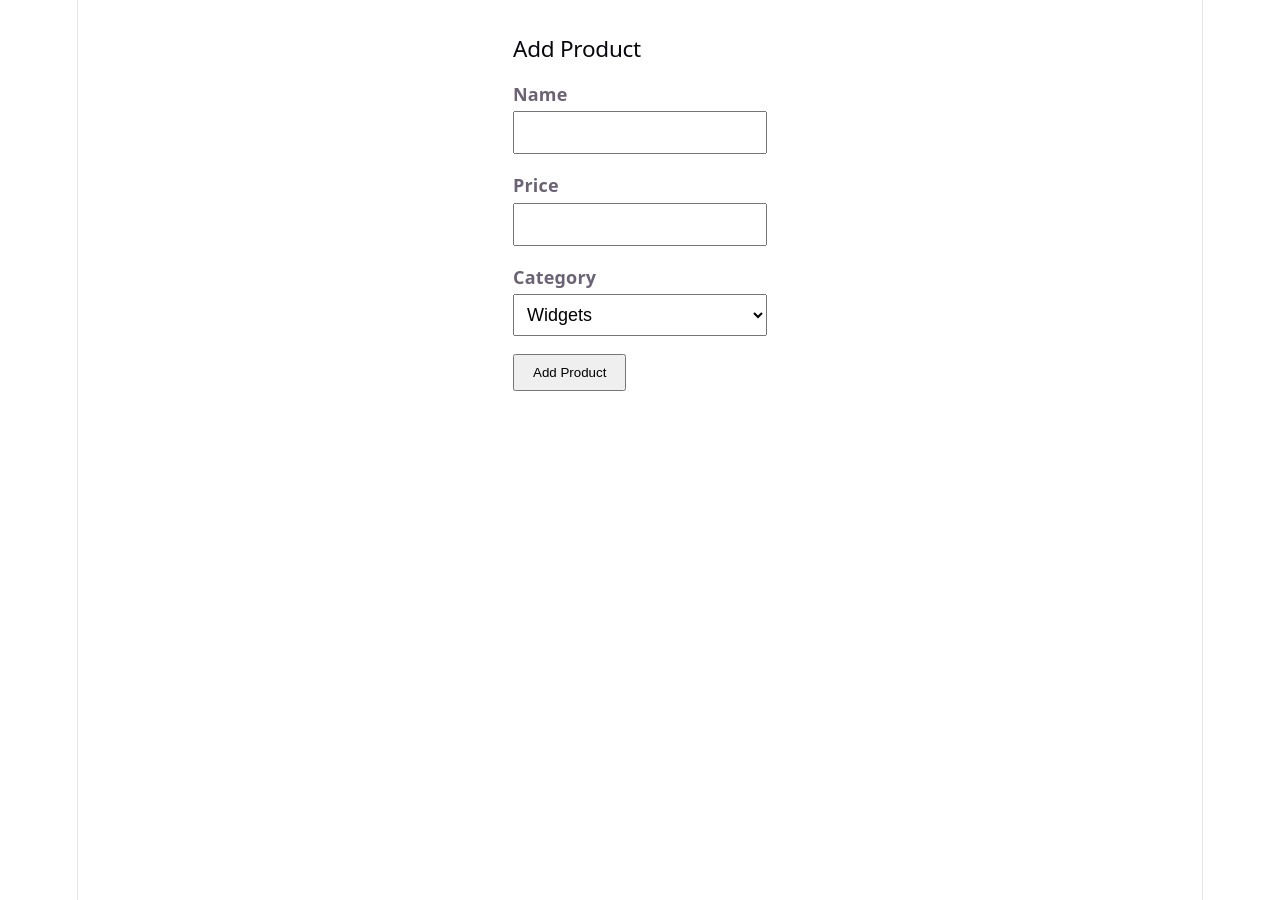
Test: ProductForm (create mode) › shows a visible form-level error on a 400 CategoryNotFound failure and preserves entered values
Check: the dropdown labelled "Category" is enabled, box top-left (513, 294), bottom-right (767, 336)
In the field labelled "Name": (640, 133) top-left (513, 111), bottom-right (767, 154), type "Some Product"
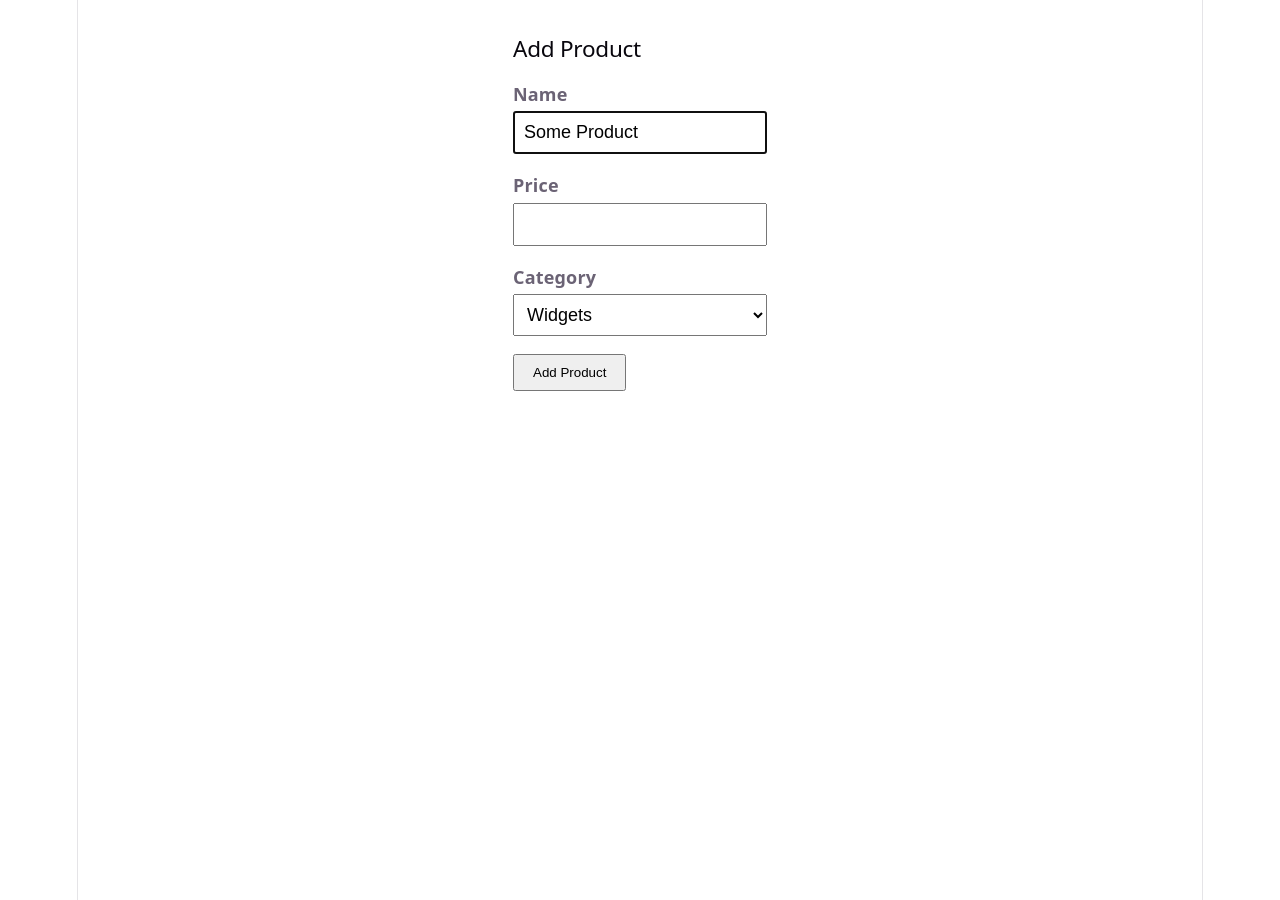
In the number field labelled "Price": (640, 224) top-left (513, 203), bottom-right (767, 246), type "5.00"
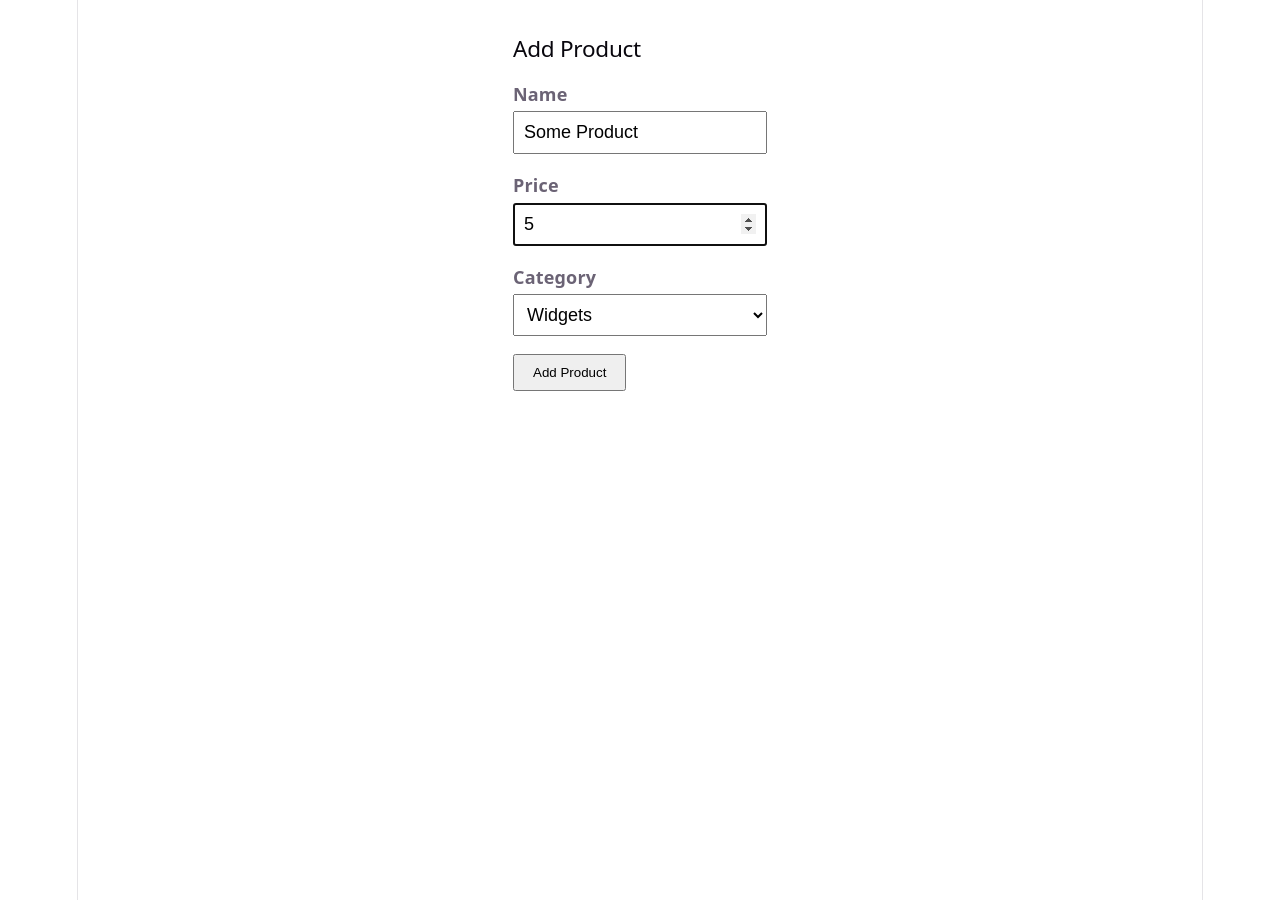
Click the button "Add Product": (570, 373) top-left (513, 354), bottom-right (626, 391)
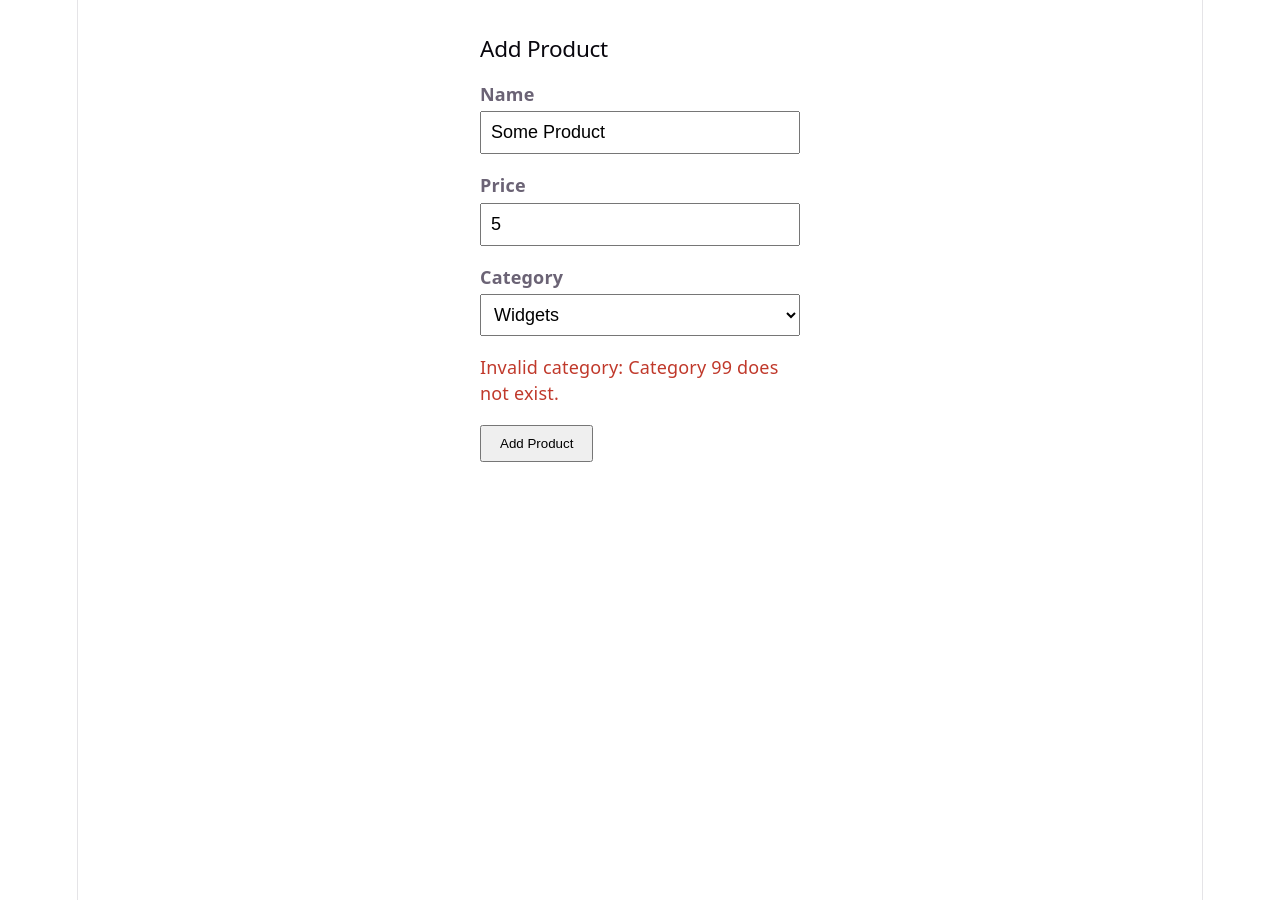
Check: the button "Add Product" is enabled, box top-left (480, 424), bottom-right (593, 462)
Check: the message reads "Invalid category: Category 99 does not exist.", box top-left (480, 355), bottom-right (778, 405)
